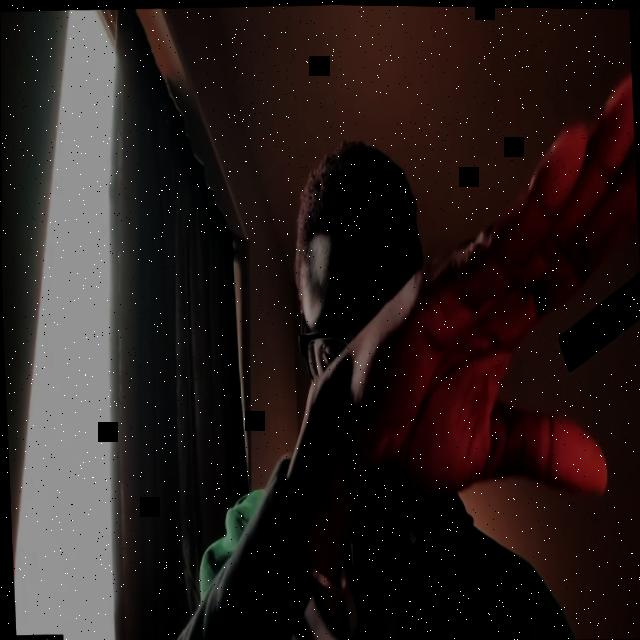Paper: (336, 65, 640, 501)
